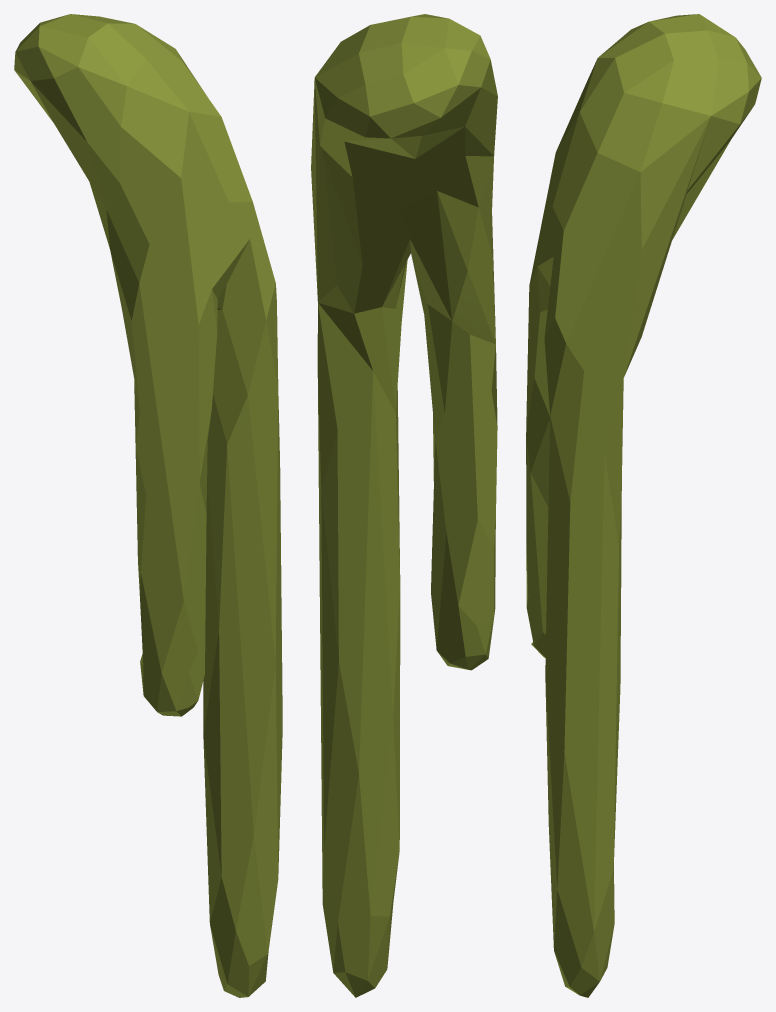
File: ea_nature_tree_crow_01d_pre__1__lev1.glb
3 views of the same model, side by side, from view 1: azimuth 30°, elevation 25°; view 2: azimuth 150°, elevation 25°; view 3: azimuth 270°, elevation 25° (orthographic). The views are drawn at different scales.
Parts seen in each view (by area): view 1: ea_nature_tree_crow_01d_pre__1__lev1; view 2: ea_nature_tree_crow_01d_pre__1__lev1; view 3: ea_nature_tree_crow_01d_pre__1__lev1.
Part boxes in pixels (x1=…): ea_nature_tree_crow_01d_pre__1__lev1: x1=14, y1=14, x2=282, y2=997; ea_nature_tree_crow_01d_pre__1__lev1: x1=311, y1=14, x2=497, y2=997; ea_nature_tree_crow_01d_pre__1__lev1: x1=526, y1=14, x2=761, y2=997.
Bounding box in the file's own units: 0.5507 × 2.62 × 0.6074.
Materials: 1 (1 with a texture image).
